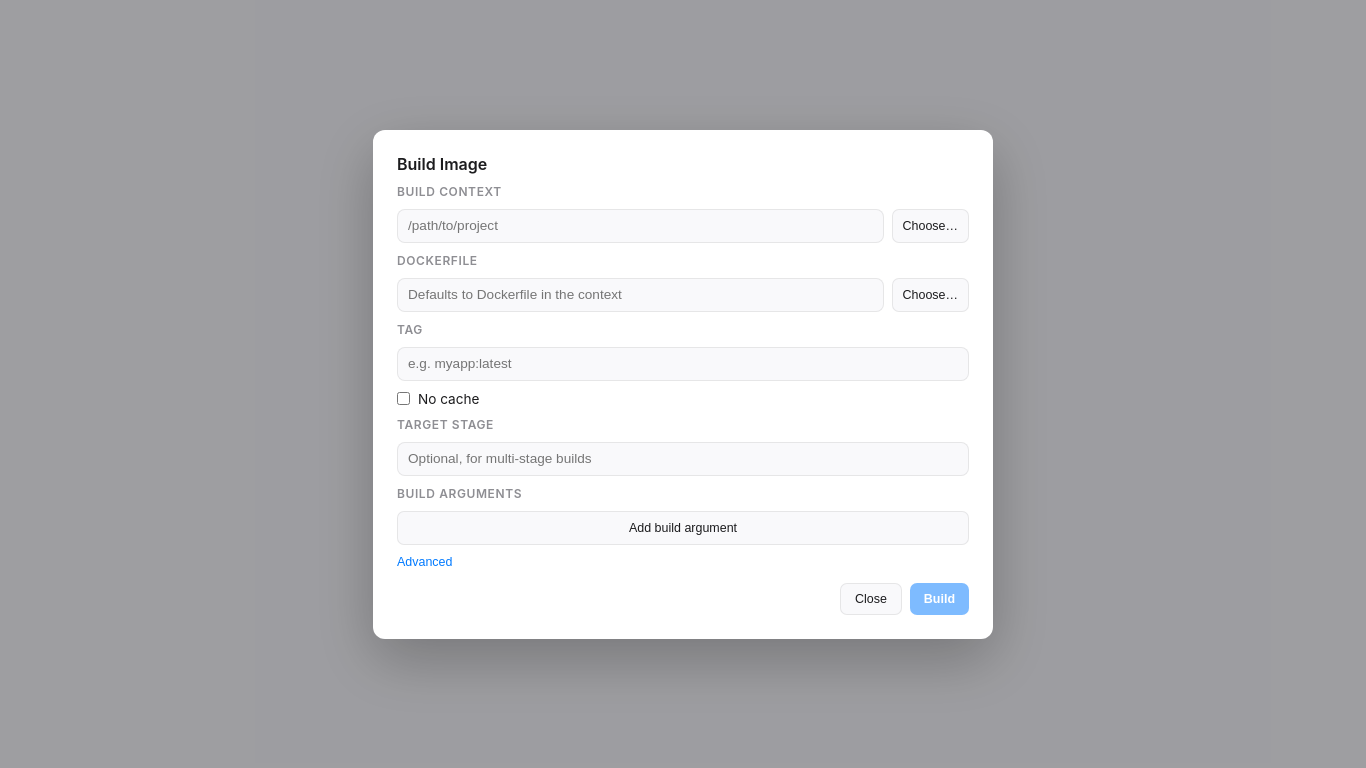
Test case: BuildModal › refuses a builder CPU count the backend cannot use
Step 1. Type "/src/app" into the field labelled "Build context" → {"x": 640, "y": 226}, box [397,208,884,242]
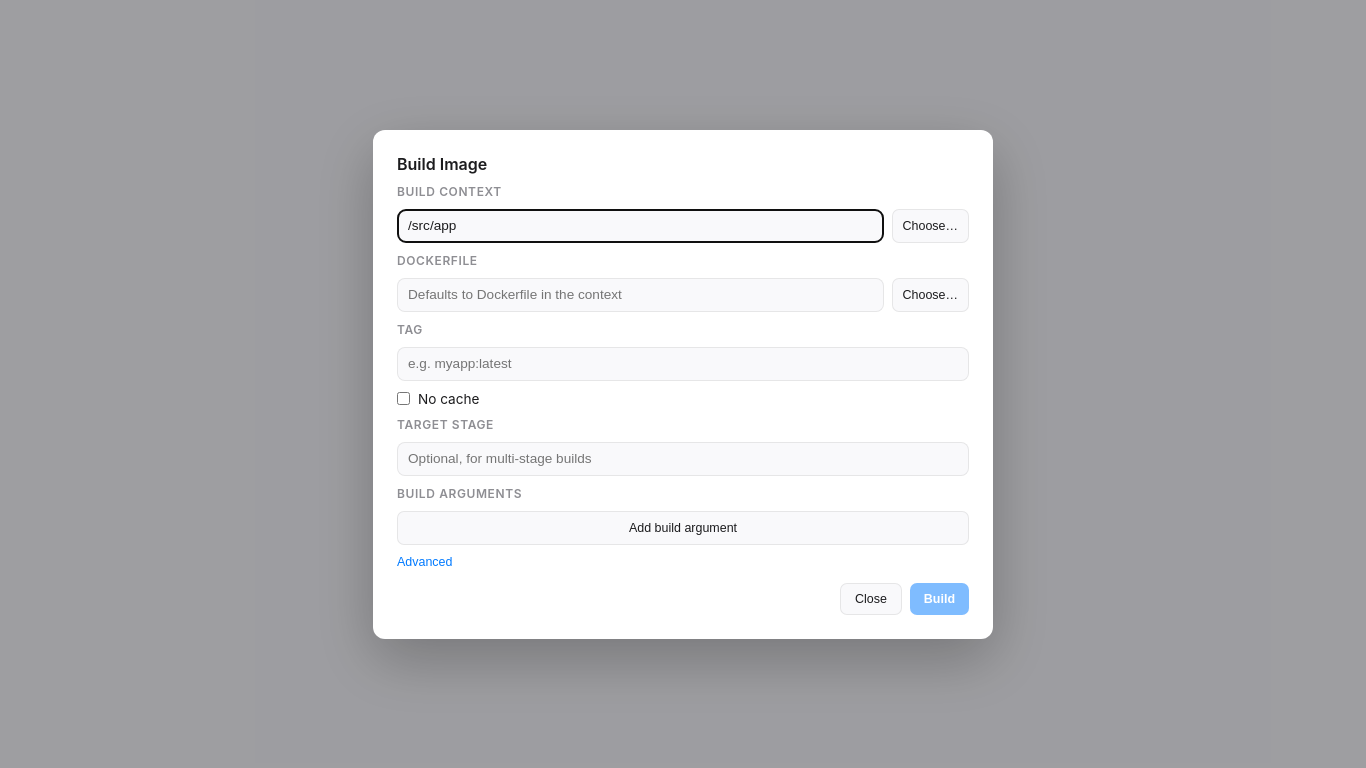
Step 2. Type "app:latest" into the field labelled "Tag" → {"x": 683, "y": 364}, box [397,346,969,380]
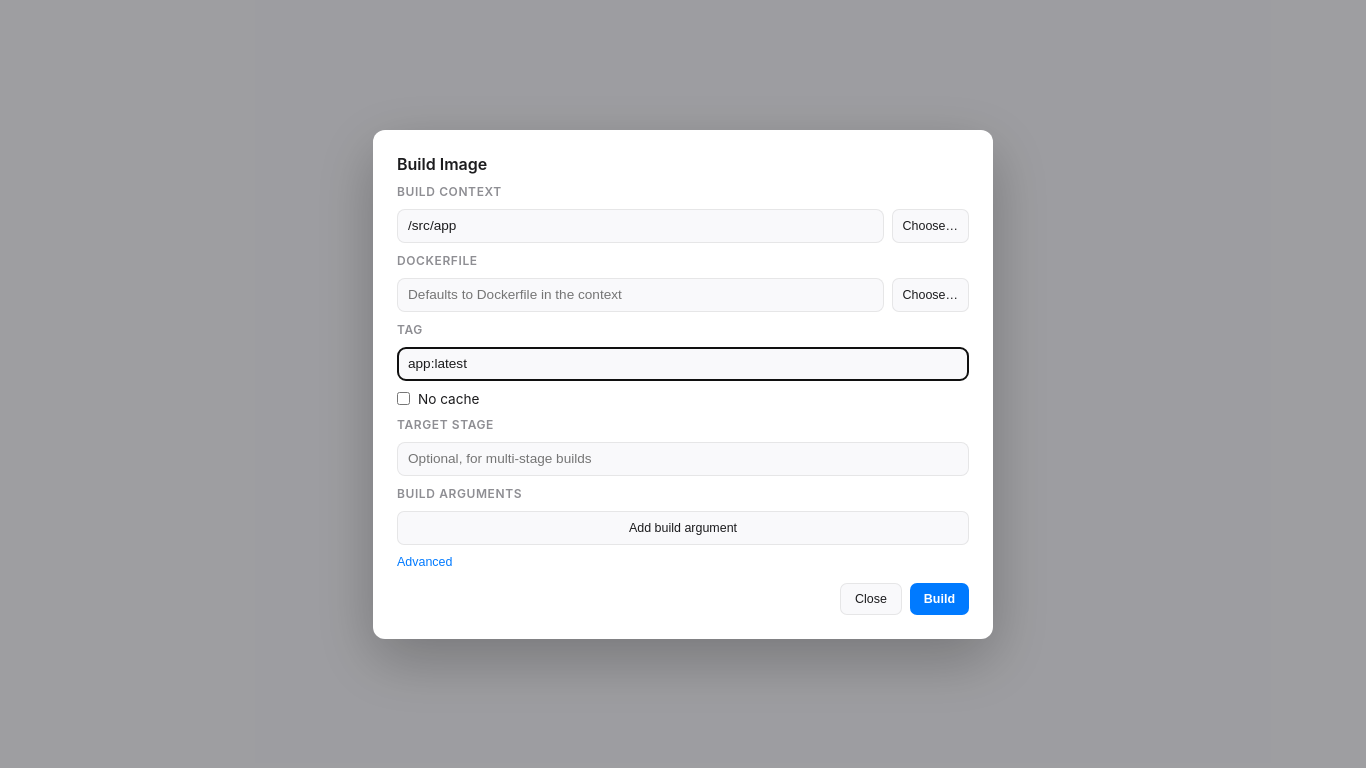
Step 3. Click the button "Advanced" → {"x": 425, "y": 562}, box [397,554,452,568]
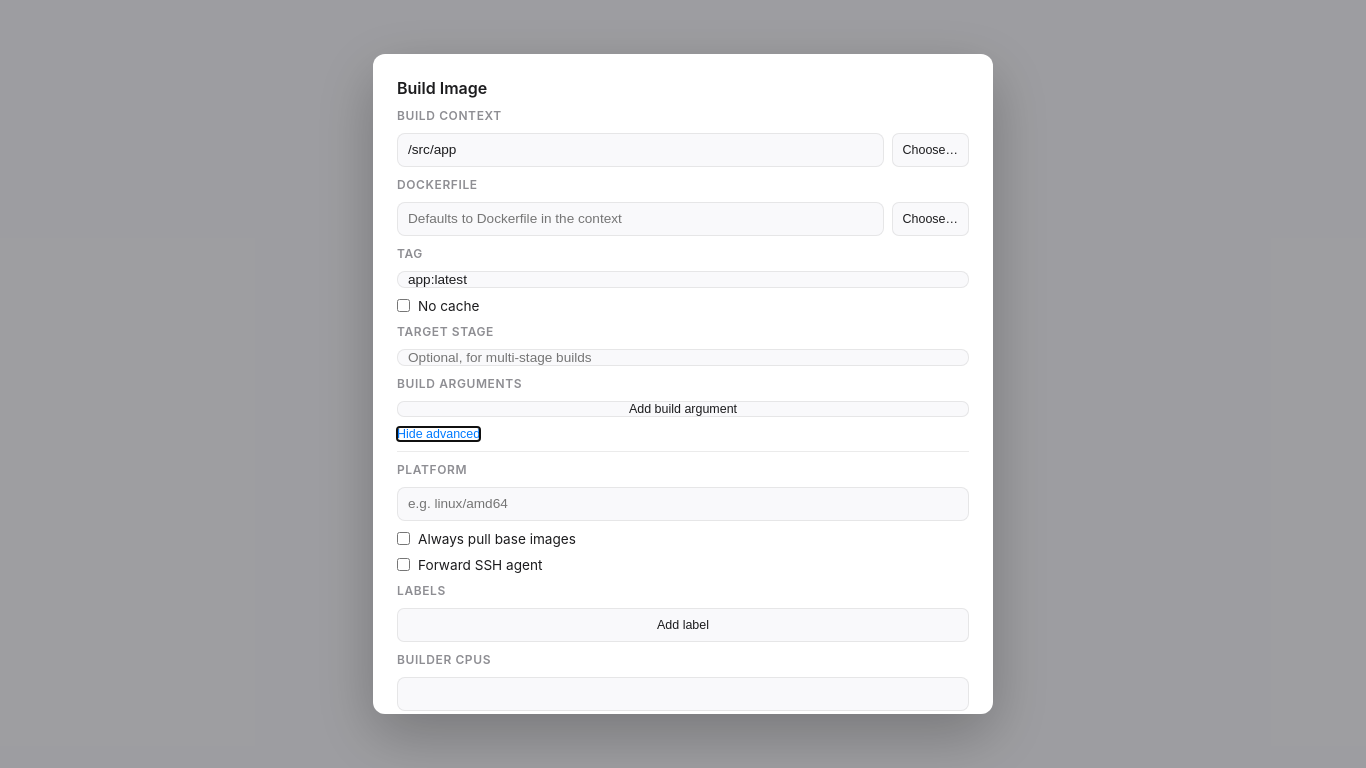
Step 4. Type "3.5" into the number field labelled "Builder CPUs" → {"x": 683, "y": 694}, box [397,677,969,711]
(page scrolled)
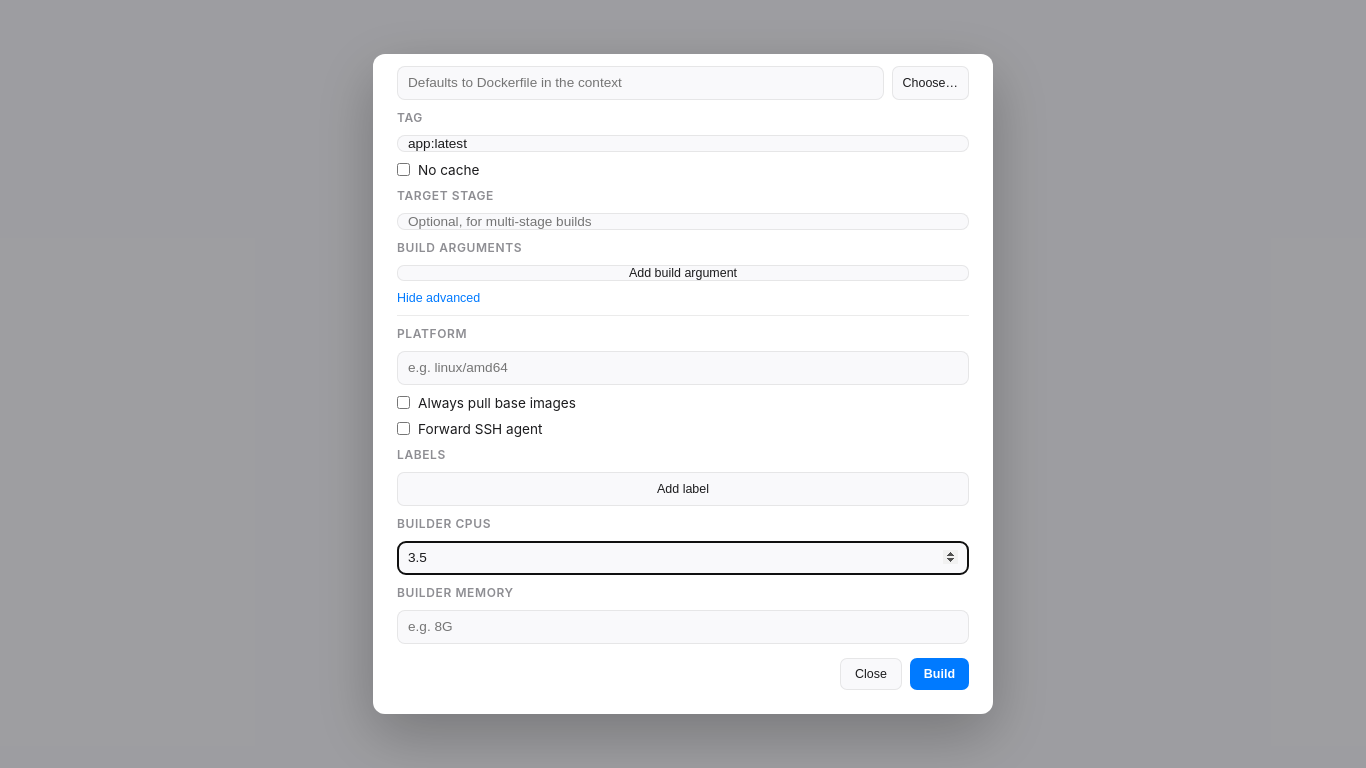
Step 5. Click the button "Build" → {"x": 939, "y": 674}, box [910,658,969,690]
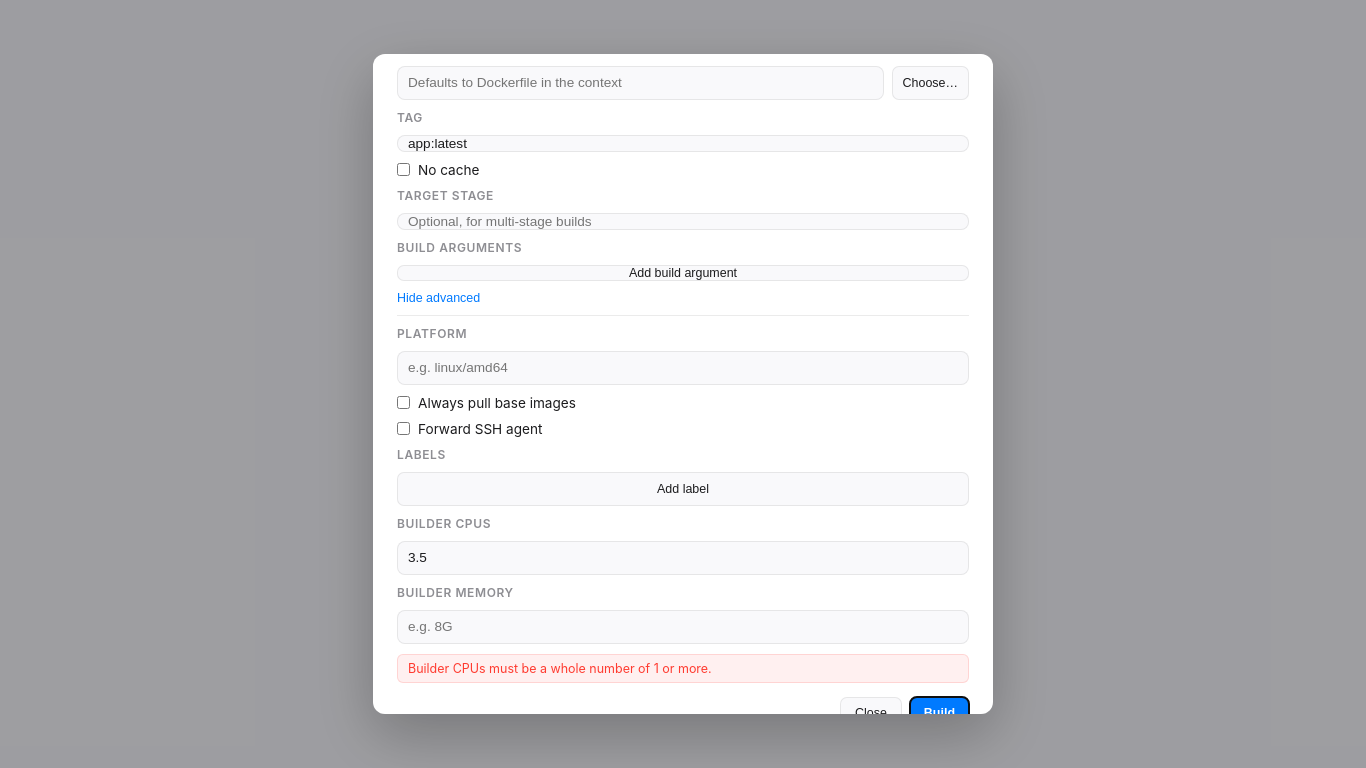
Result: the text "Builder CPUs must be a whole number of 1 or more." is shown at [397,654,969,683]
